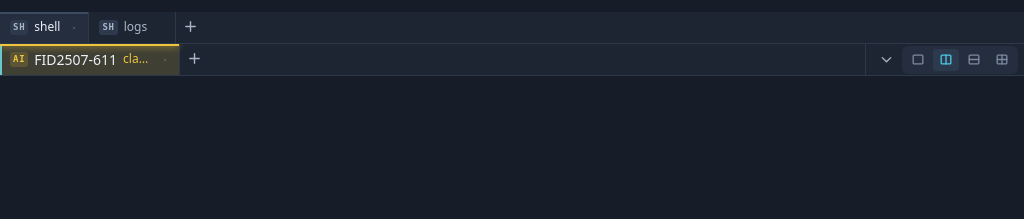
Test: PaneTabBar › the overflow list names every tab of the workspace, whichever group holds it
Step 1. Click the button named "All tabs" → (886, 60), box [872, 46, 900, 74]
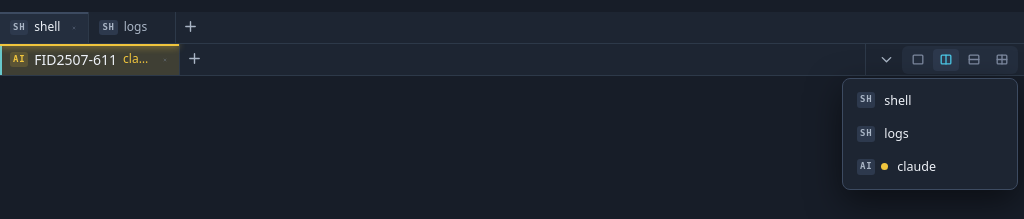
Result: the number of elements with class "ix-tabmenu__dot--waiting" is 1 at [881, 163, 888, 170]
